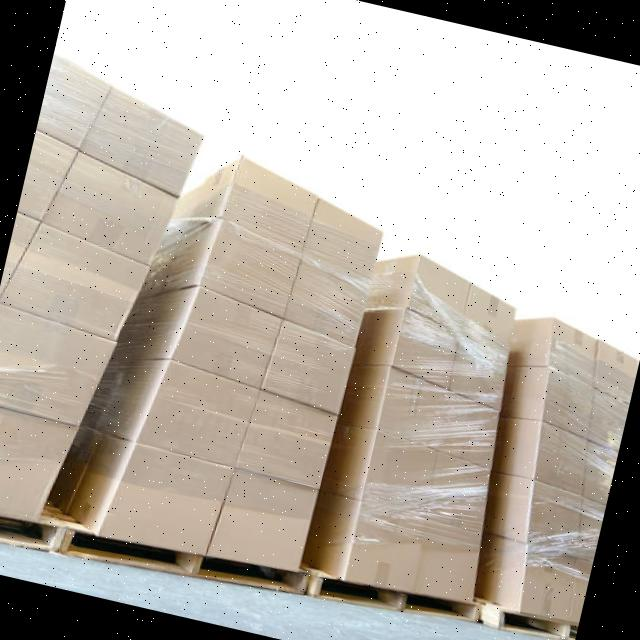Wooden-Pallets: (51, 518, 313, 613), (300, 561, 494, 631)
